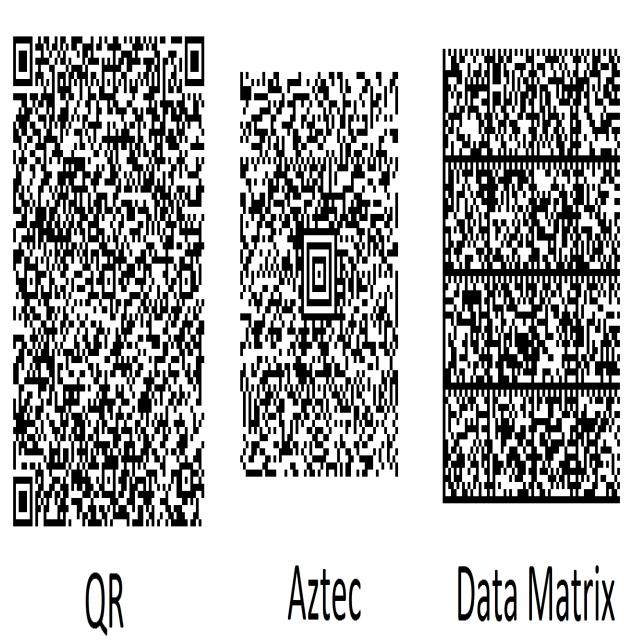datamatrix: (438, 34, 623, 519)
